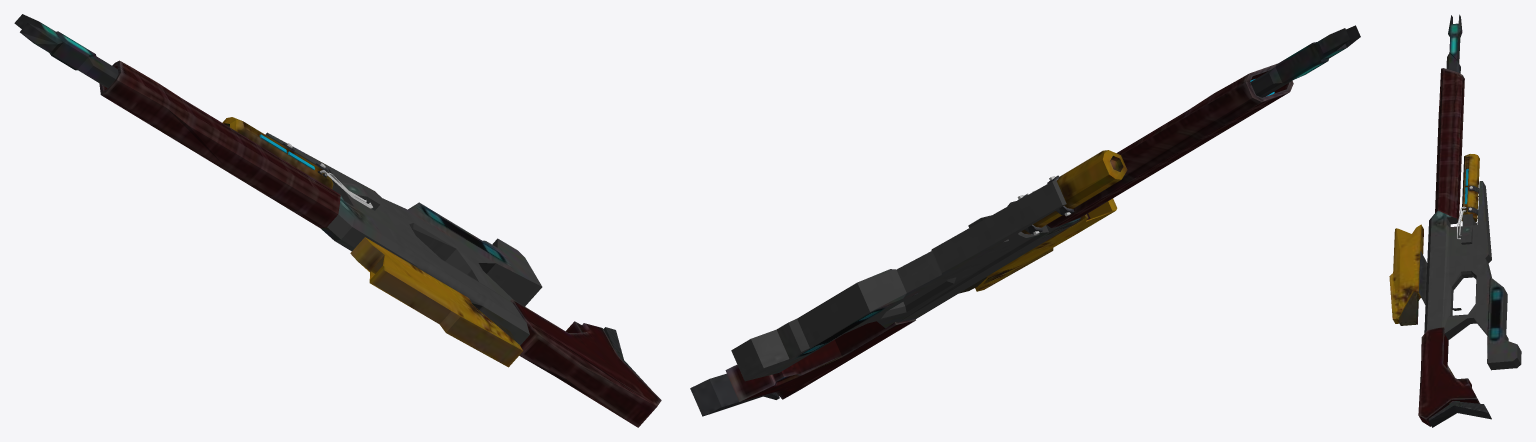
File: eng-laser.glb
3 renders of one model, left to right at view 1: azimuth 30°, elevation 25°; view 2: azimuth 150°, elevation 25°; view 3: azimuth 270°, elevation 25°, orthographic. The views are drawn at different scales.
Parts seen in each view (by area): view 1: geometry_0; view 2: geometry_0; view 3: geometry_0.
Boxes of the visible parts, x1,y1,x2,y2 form: geometry_0: [14, 14, 661, 427]; geometry_0: [690, 25, 1360, 416]; geometry_0: [1389, 14, 1521, 427].
Size of the model in its own units: 0.7278 by 0.5881 by 0.2621.
1 material, 1 textured.
